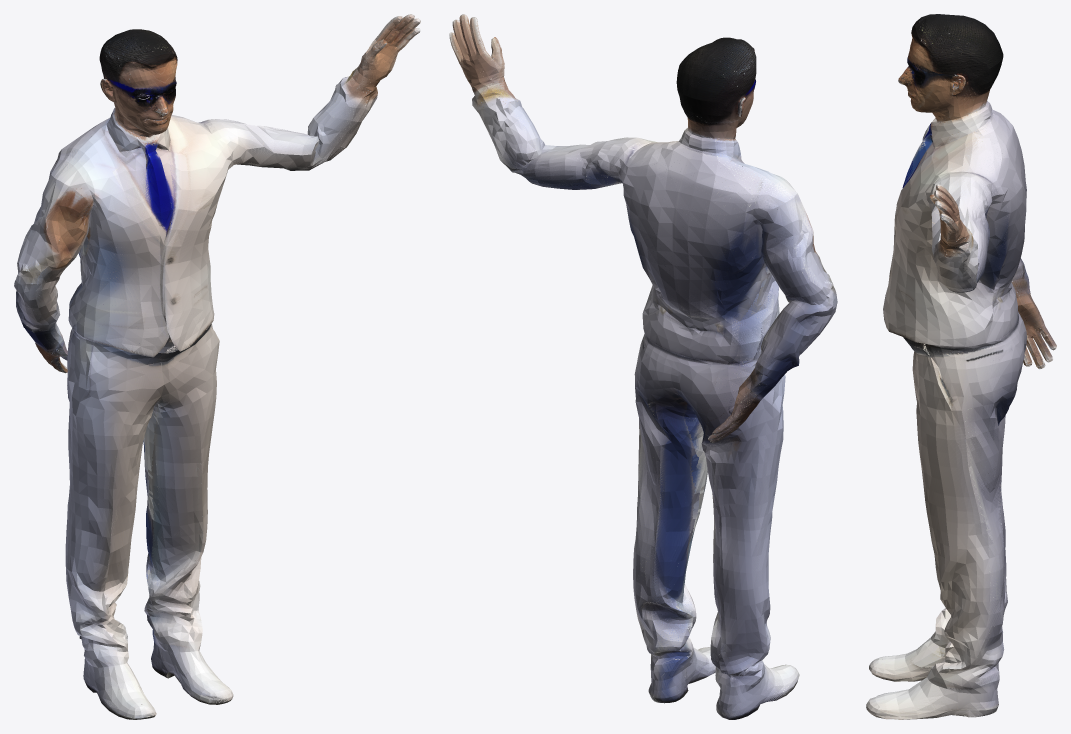
3 renders of one model, left to right at view 1: azimuth 30°, elevation 25°; view 2: azimuth 150°, elevation 25°; view 3: azimuth 270°, elevation 25°, orthographic. The views are drawn at different scales.
Parts seen in each view (by area): view 1: Node; view 2: Node; view 3: Node.
Boxes of the visible parts, x1,y1,x2,y2 form: Node: (14,14,420,719); Node: (449,14,837,719); Node: (866,14,1056,719).
Bounding box in the file's own units: 1.27 × 2 × 0.5138.
1 material, 1 textured.
